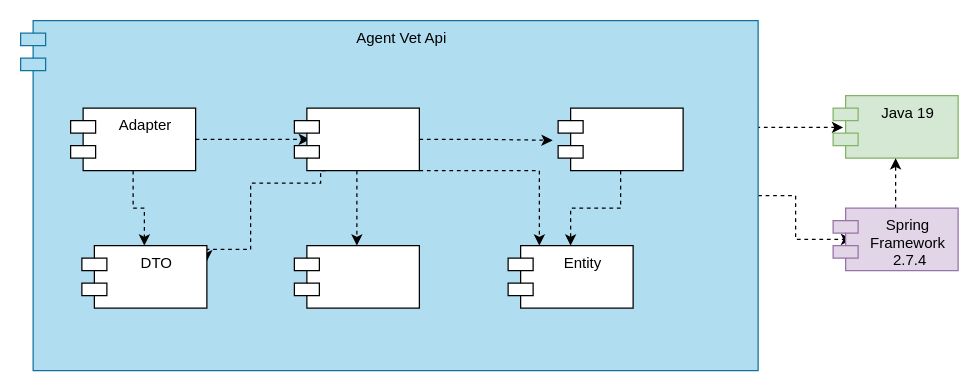
This 979x391 diagram has some shape labels left out. The box of each missing label's shape, as (x1, y1, x2, y2) in pixels:
Domain: (293, 244, 419, 308)
Infraestructure: (557, 107, 683, 171)
Service: (293, 107, 419, 171)
